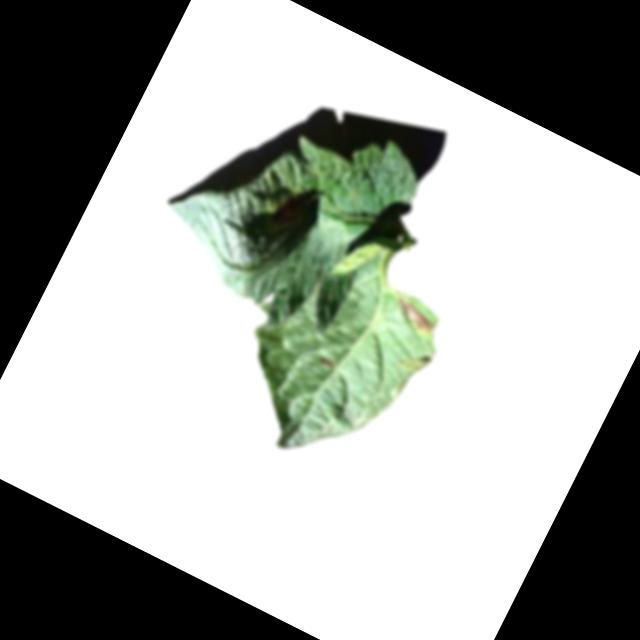Early_blight: (386, 298, 439, 341), (317, 353, 337, 370)
